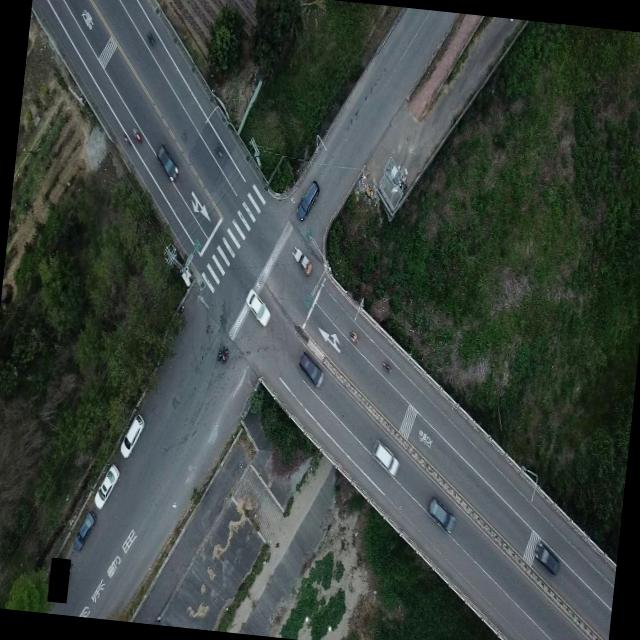bike: (131, 127, 143, 146), (216, 344, 226, 364), (121, 132, 132, 147), (145, 30, 156, 45), (380, 359, 392, 372), (349, 330, 358, 342)
car: (424, 494, 456, 534), (96, 463, 122, 510), (120, 413, 146, 460), (372, 438, 403, 477), (530, 538, 562, 574), (246, 288, 275, 326), (295, 348, 324, 385), (74, 508, 97, 552), (154, 146, 180, 184), (295, 178, 318, 220), (290, 246, 314, 276)
